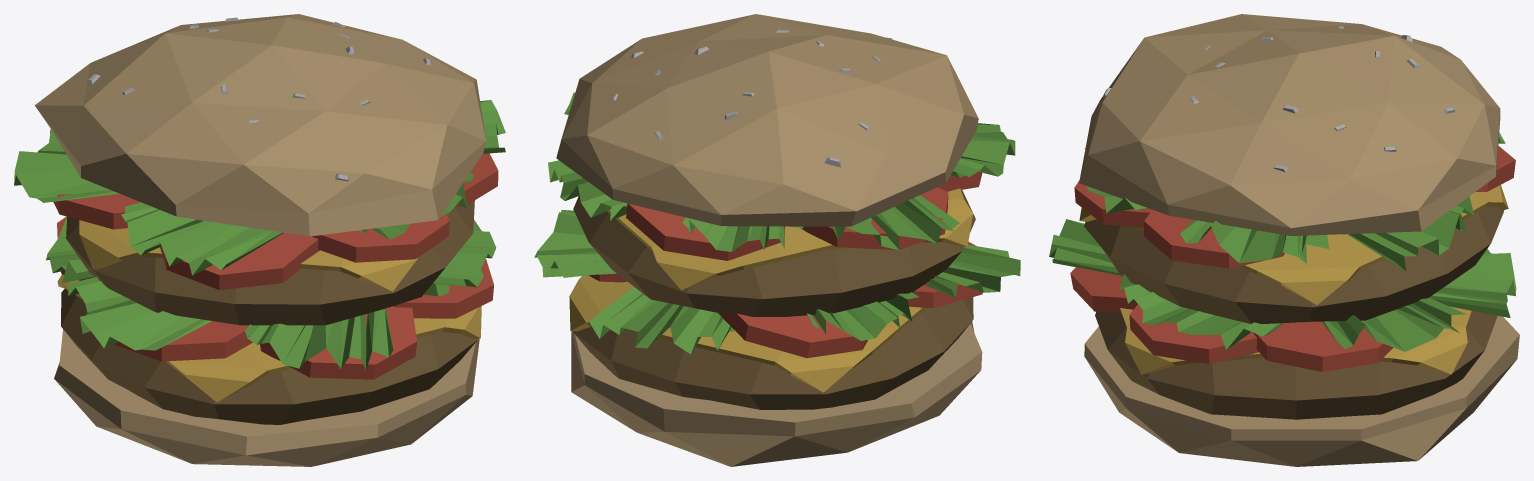
Rendered from BurgerLarge.glb.
3 views of the same model, side by side, from view 1: azimuth 30°, elevation 25°; view 2: azimuth 150°, elevation 25°; view 3: azimuth 270°, elevation 25° (orthographic). The views are drawn at different scales.
Parts seen in each view (by area): view 1: BurgerLarge; view 2: BurgerLarge; view 3: BurgerLarge.
Boxes of the visible parts, x1,y1,x2,y2 form: BurgerLarge: [14, 14, 505, 466]; BurgerLarge: [534, 14, 1020, 466]; BurgerLarge: [1049, 14, 1519, 466].
Size of the model in its own units: 0.2957 by 0.2487 by 0.2866.
